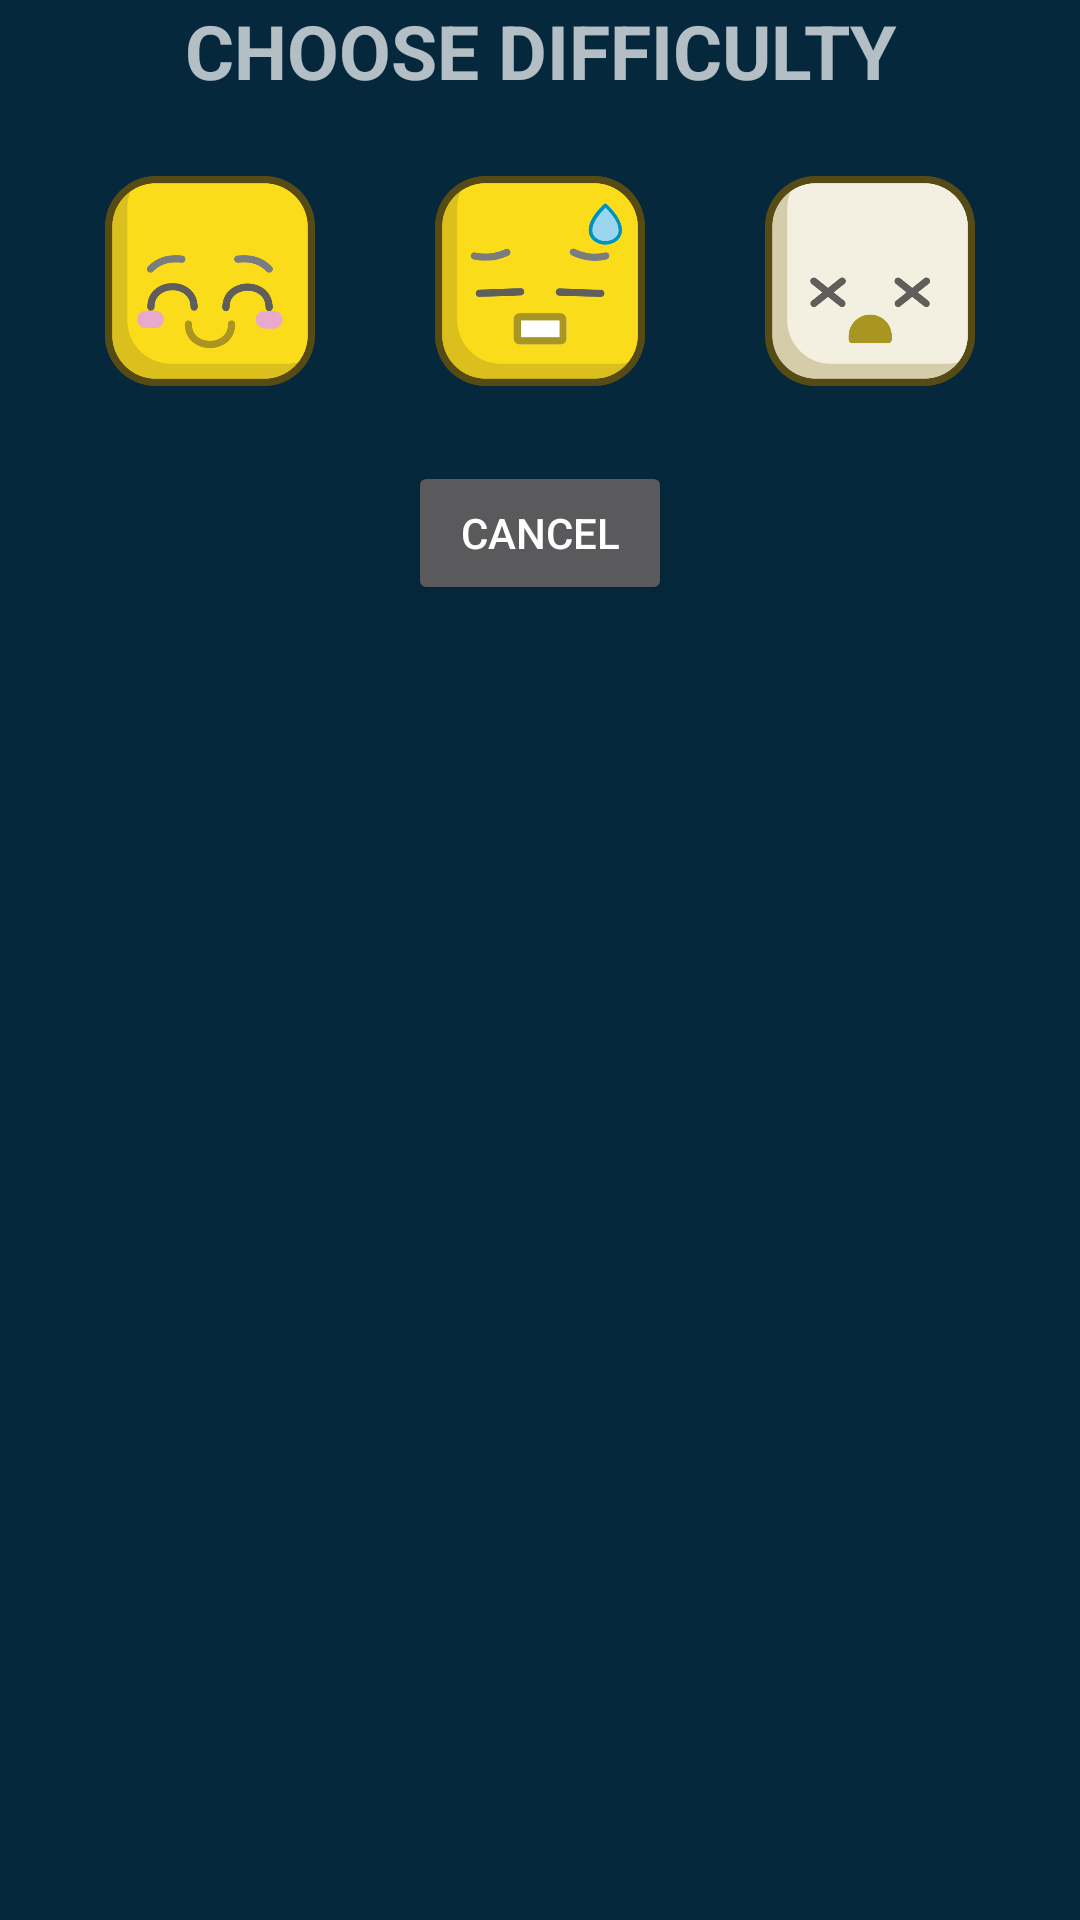

Locate icon controls on the screen. Image size 1080px x 1920px, boxes as detection(x1, y1, x2, y2).
killed: detection(765, 176, 975, 386)
scared: detection(435, 176, 645, 386)
smile: detection(105, 176, 315, 386)
